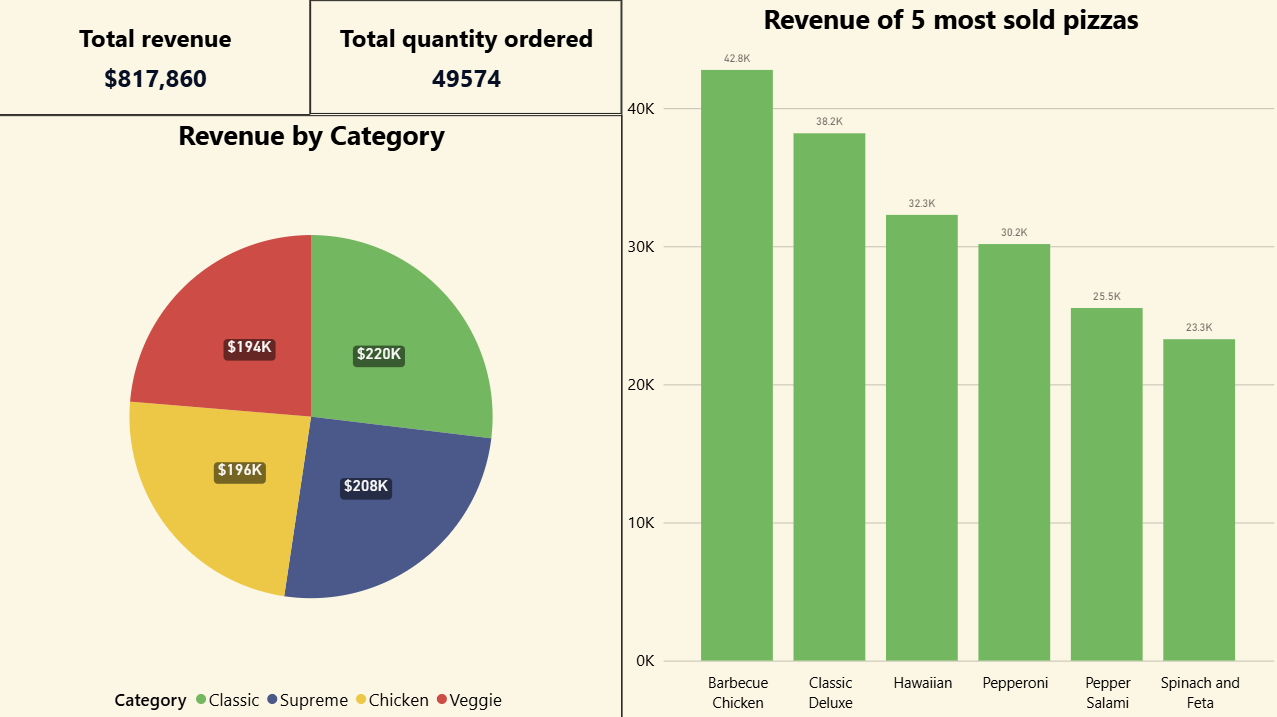

Layout of this report page (visuals, bound fields, positions):
{"tool":"powerbi","page":{"name":"revenue","canvas":[1280,720],"ordinal":0},"visuals":[{"type":"pieChart","title":"Revenue by Category","fields":{"Category":["total_revenue_by_pizza_category.pizza_category"],"Y":["Sum(total_revenue_by_pizza_category.revenue)"]},"box":[0,115.7,622.9,604.3],"z":0},{"type":"cardVisual","fields":{"Data":["Sum(total_revenue_by_pizza_category.revenue)"]},"box":[0,0,311.4,115.7],"z":1000},{"type":"cardVisual","fields":{"Data":["Sum(total_revenue_by_pizza_name.quantity_ordered)"]},"box":[311.5,1.4,311.5,113.9],"z":2000},{"type":"clusteredColumnChart","title":"Revenue of 5 most sold pizzas","fields":{"Y":["Sum(total_revenue_by_pizza_name.revenue)"],"Category":["total_revenue_by_pizza_name.pizza_name_clean"]},"box":[622.9,0,657.1,720],"z":3000}]}

Visuals, with their boxes in screenshot pixels (x1, y1, x2, y2), scaled from the page's 1280x720 canvas onto the 1277x717 screenshot:
"Revenue by Category" pieChart: {"x1": 0, "y1": 115, "x2": 621, "y2": 716}
cardVisual - Sum(total_revenue_by_pizza_category.revenue): {"x1": 0, "y1": 0, "x2": 311, "y2": 115}
cardVisual - Sum(total_revenue_by_pizza_name.quantity_ordered): {"x1": 311, "y1": 1, "x2": 622, "y2": 115}
"Revenue of 5 most sold pizzas" clusteredColumnChart: {"x1": 621, "y1": 0, "x2": 1276, "y2": 716}
